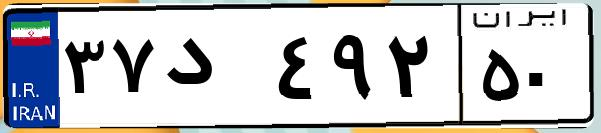0: (525, 38, 570, 115)
2: (385, 28, 445, 110)
3: (57, 26, 110, 100)
4: (270, 28, 330, 110)
5: (475, 38, 525, 113)
7: (110, 28, 158, 98)
9: (330, 28, 385, 110)
د: (158, 20, 270, 120)
